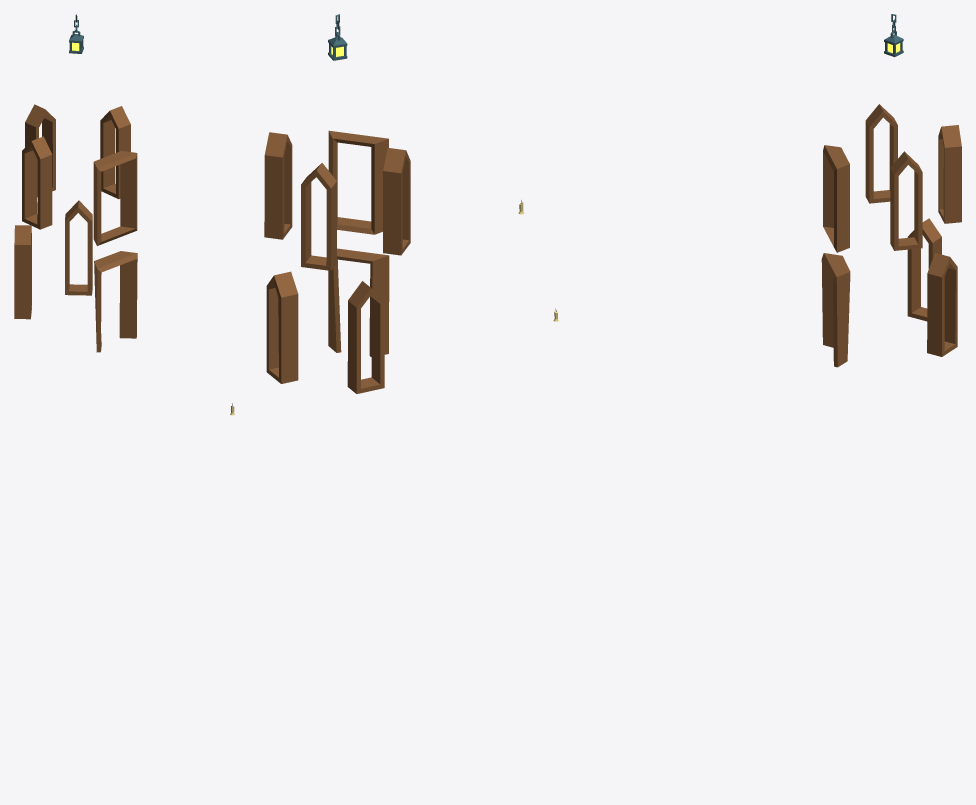
3 views of the same model, side by side, from view 1: azimuth 30°, elevation 25°; view 2: azimuth 150°, elevation 25°; view 3: azimuth 270°, elevation 25° (orthographic). The views are drawn at different scales.
Visible parts, largest first — view 1: Object154_brown_0; view 2: Object154_brown_0; view 3: Object154_brown_0.
Part boxes in pixels (left/top/right/bottom): Object154_brown_0: left=14, top=104, right=137, bottom=352; Object154_brown_0: left=264, top=130, right=410, bottom=393; Object154_brown_0: left=821, top=104, right=961, bottom=367.
Bounding box in the file's own units: 390 × 2462 × 1175.
